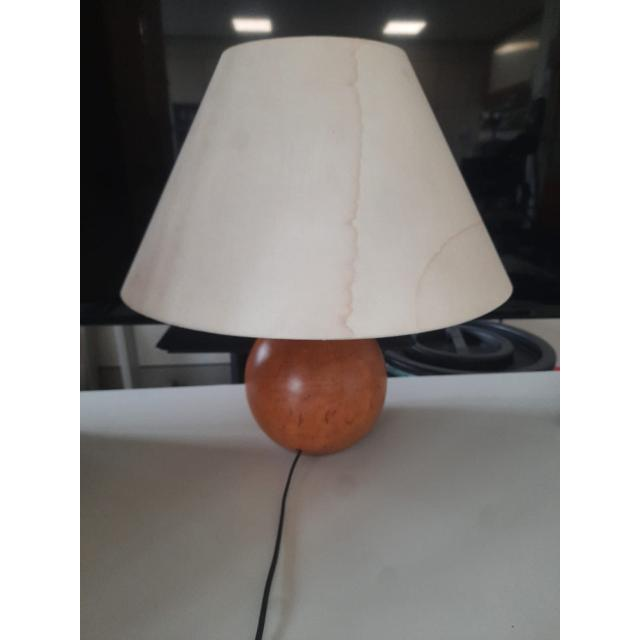lamp: (119, 36, 514, 458)
